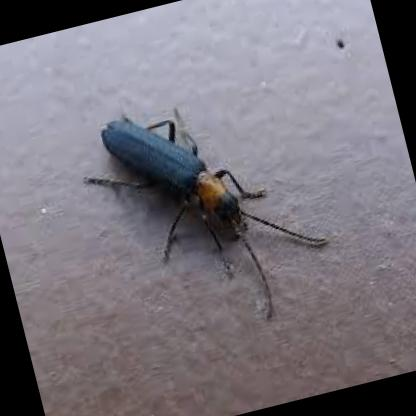blister beetle: (85, 116, 324, 318)
